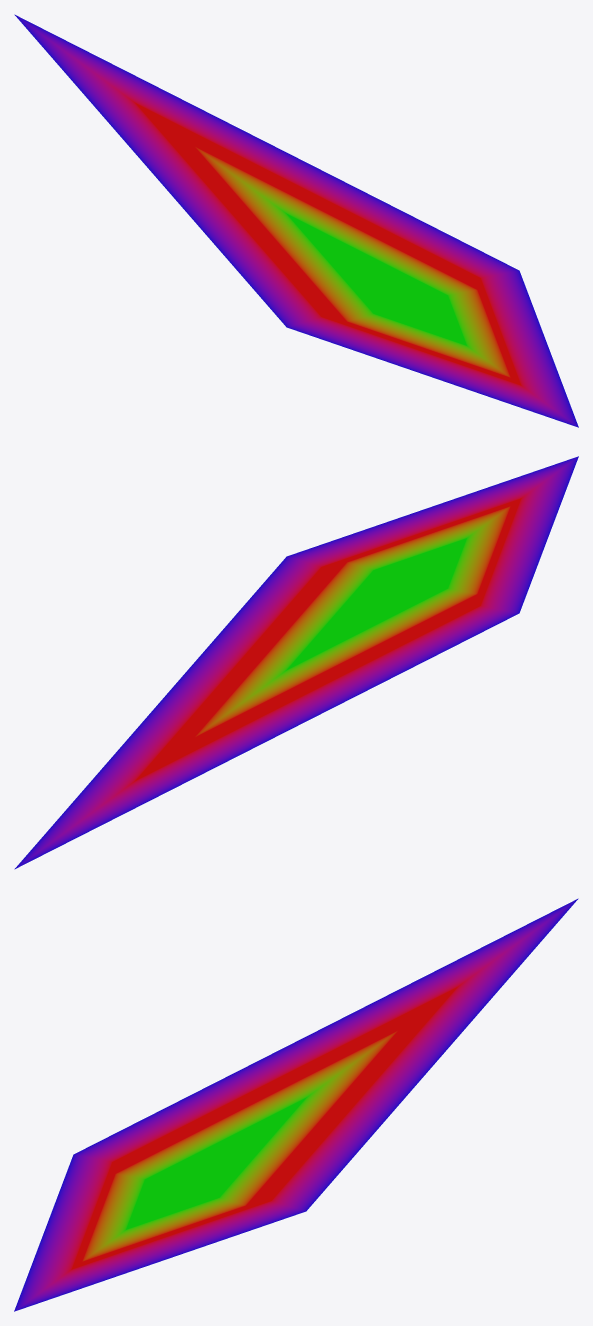
File: SM_VFX_Impact_Sparks.fbx
3 renders of one model, top to bottom at view 1: azimuth 30°, elevation 25°; view 2: azimuth 150°, elevation 25°; view 3: azimuth 330°, elevation 25°, orthographic.
Parts seen in each view (by area): view 1: MSH_VFX_Impact_Spark_01; view 2: MSH_VFX_Impact_Spark_01; view 3: MSH_VFX_Impact_Spark_01.
Part boxes in pixels (bbox=[...]): MSH_VFX_Impact_Spark_01: bbox=[14, 14, 578, 427]; MSH_VFX_Impact_Spark_01: bbox=[14, 456, 578, 869]; MSH_VFX_Impact_Spark_01: bbox=[14, 898, 578, 1311].
Bounding box in the file's own units: 14.04 × 1.23e-06 × 59.
